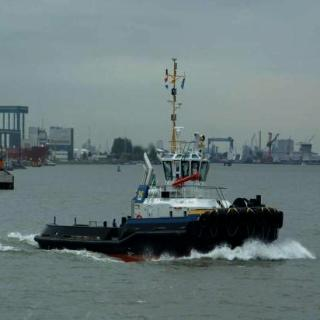Tug Boat: (39, 64, 303, 251)
